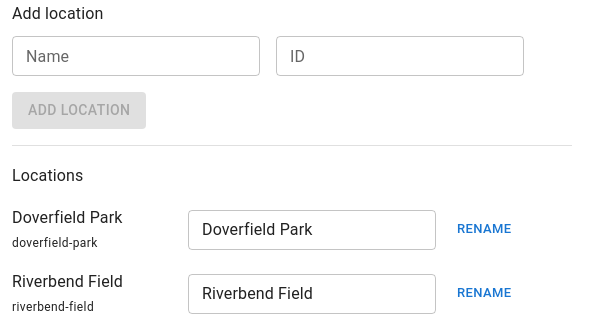
it: ManageLocations › renames a location by posting the same id with the new name
Expected: the text "Doverfield Park" is shown, x1=12 y1=208 x2=122 y2=226
Replace the text in the field named "New name for Doverfield Park" with "Dover Park" at (312, 230), box x1=188 y1=210 x2=436 y2=250
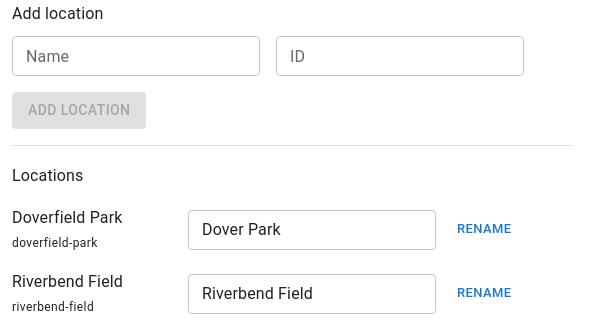
Click the button with aria-label "Rename Doverfield Park".
click(484, 230)  # box x1=452 y1=214 x2=516 y2=245
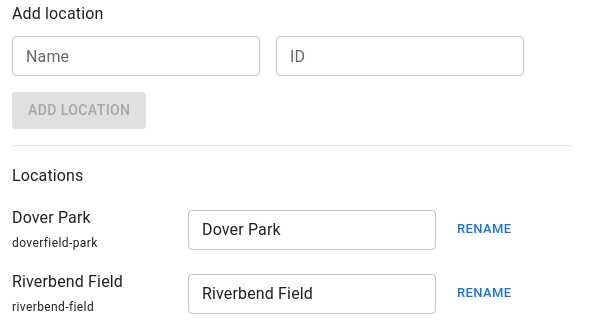
Expected: the text "Dover Park" is shown, x1=12 y1=208 x2=91 y2=226
